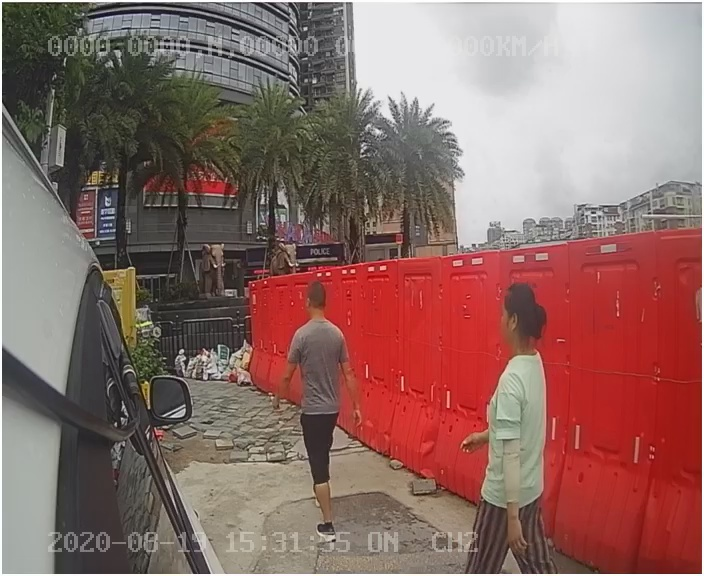person: (458, 287, 566, 566), (267, 280, 357, 540)
